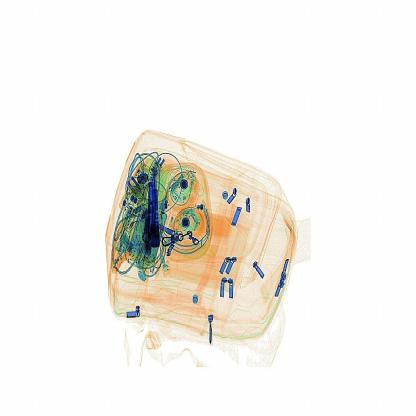pliers: (140, 173, 178, 260)
